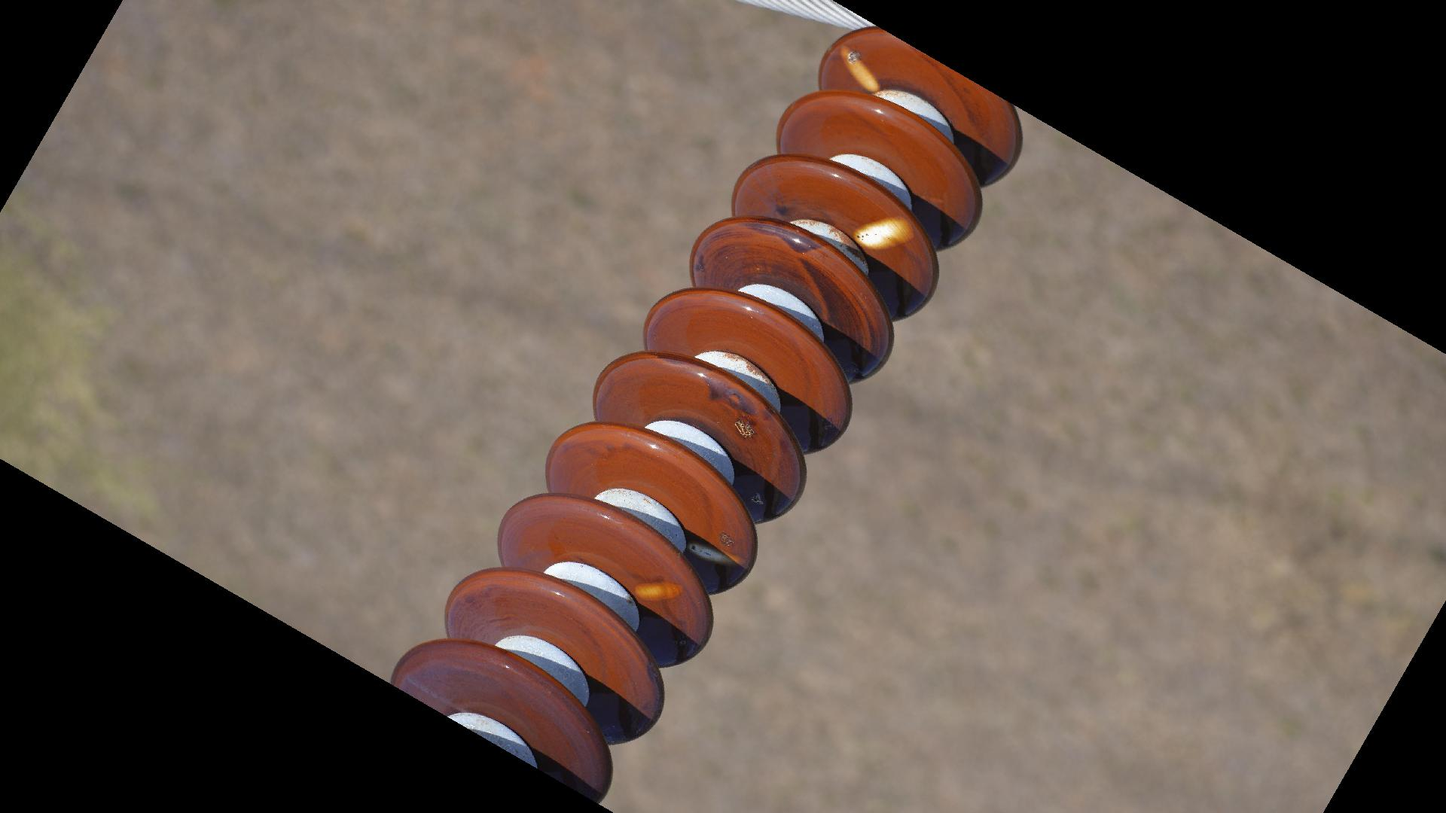insulator: (383, 16, 1036, 808)
insulator_flashover: (852, 215, 916, 251), (837, 44, 882, 95), (686, 540, 746, 567), (631, 579, 686, 604)
